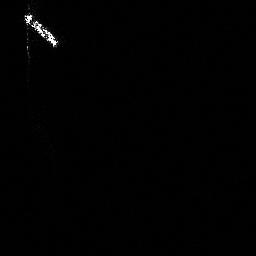ship: (22, 11, 60, 49)
